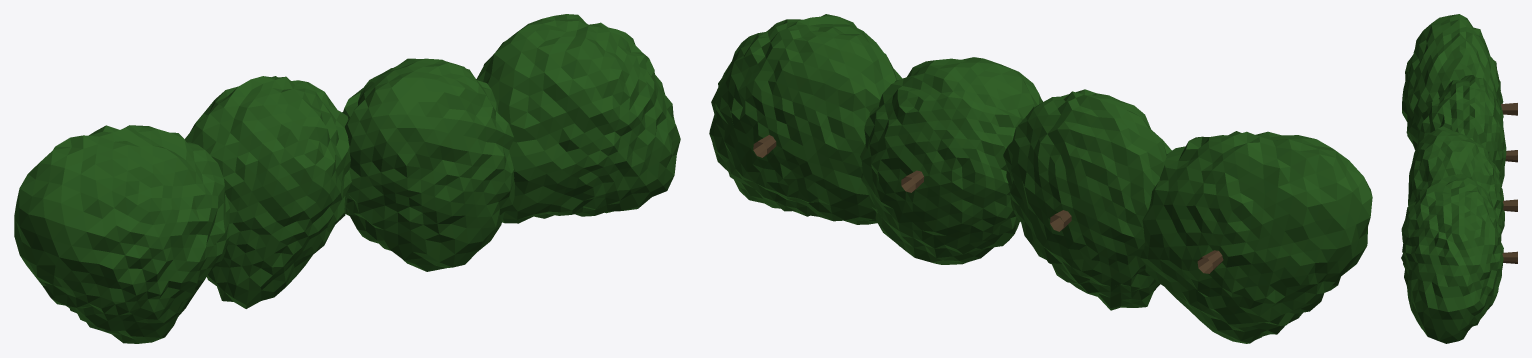
Rendered from citrus_run4_e.obj.
3 renders of one model, left to right at view 1: azimuth 30°, elevation 25°; view 2: azimuth 150°, elevation 25°; view 3: azimuth 270°, elevation 25°, orthographic. The views are drawn at different scales.
Parts seen in each view (by area): view 1: canopy; view 2: canopy, trunk; view 3: canopy, trunk.
Part boxes in pixels (left/top/right/bottom): canopy: left=14, top=14, right=680, bottom=343; canopy: left=709, top=14, right=1372, bottom=343; trunk: left=753, top=135, right=1223, bottom=273; canopy: left=1401, top=14, right=1506, bottom=343; trunk: left=1501, top=103, right=1517, bottom=263.
Size of the model in its own units: 13.22 by 4.27 by 2.89.
